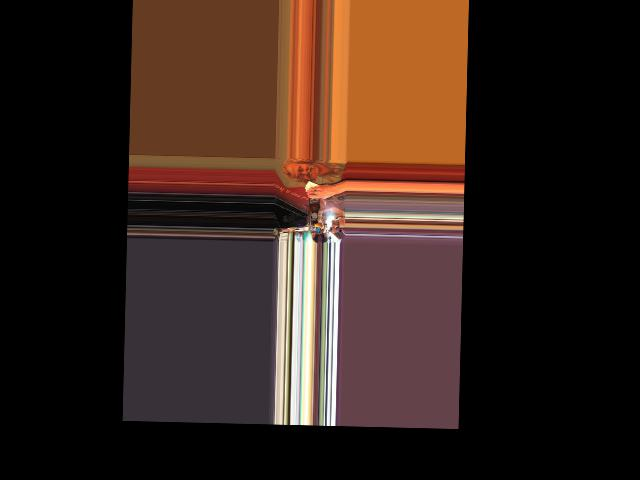beer: (308, 186, 319, 225)
